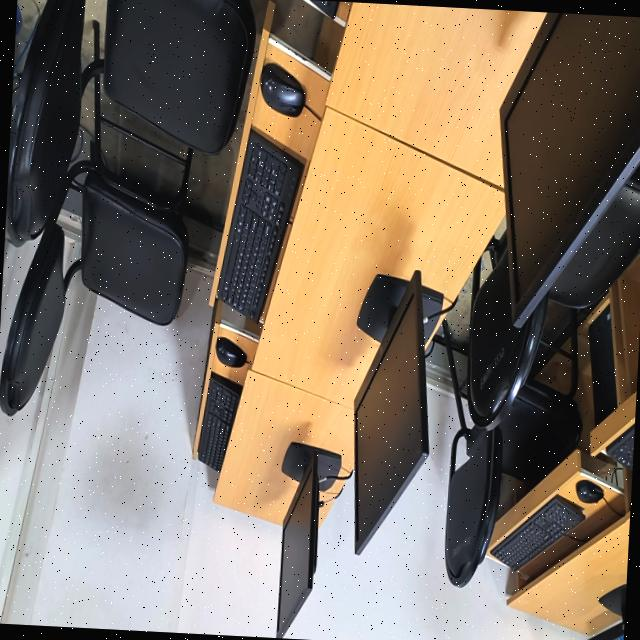Chair: (3, 0, 255, 411), (0, 21, 192, 415), (444, 310, 582, 586), (543, 163, 640, 311), (469, 234, 543, 424)
Cpu: (588, 305, 616, 425)
Keyboard: (217, 129, 304, 321), (490, 495, 583, 570), (197, 374, 240, 472), (605, 422, 635, 472)
Monitor: (499, 11, 640, 325), (353, 270, 442, 553), (275, 442, 340, 638)
Mouse: (260, 63, 305, 115), (215, 337, 246, 367), (575, 480, 603, 503)
